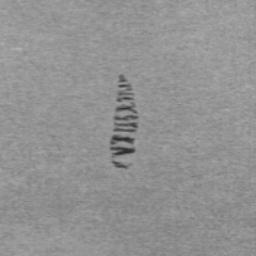Secondary rust skin: (114, 75, 138, 133), (111, 134, 134, 167)
